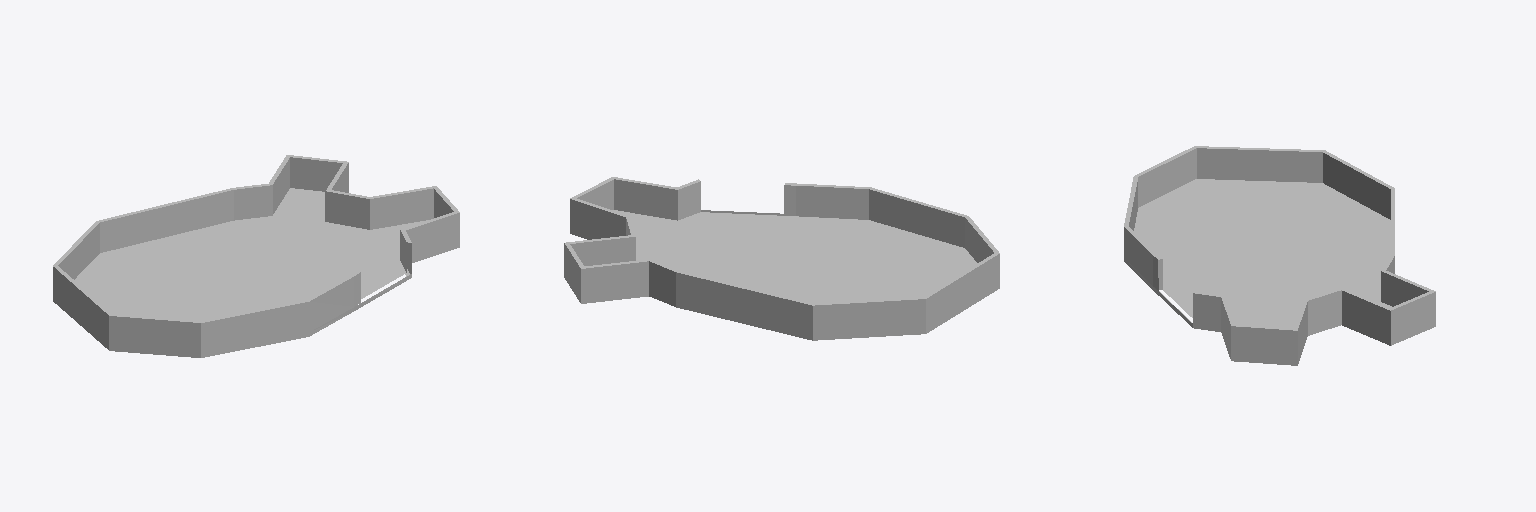
File: Room9.obj
The picture shows the model from 3 angles: view 1: azimuth 30°, elevation 25°; view 2: azimuth 150°, elevation 25°; view 3: azimuth 270°, elevation 25°; orthographic projection.
Visible parts, largest first — view 1: Room9; view 2: Room9; view 3: Room9.
Part boxes in pixels (x1,y1,x2,y2): Room9: (53, 155, 459, 357); Room9: (564, 177, 999, 340); Room9: (1124, 146, 1435, 365).
Bounding box in the file's own units: 45.1 × 4 × 32.22.